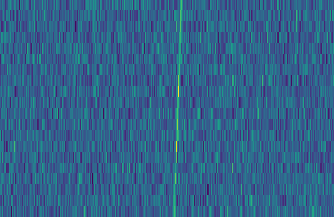signal: (169, 0, 185, 217)
